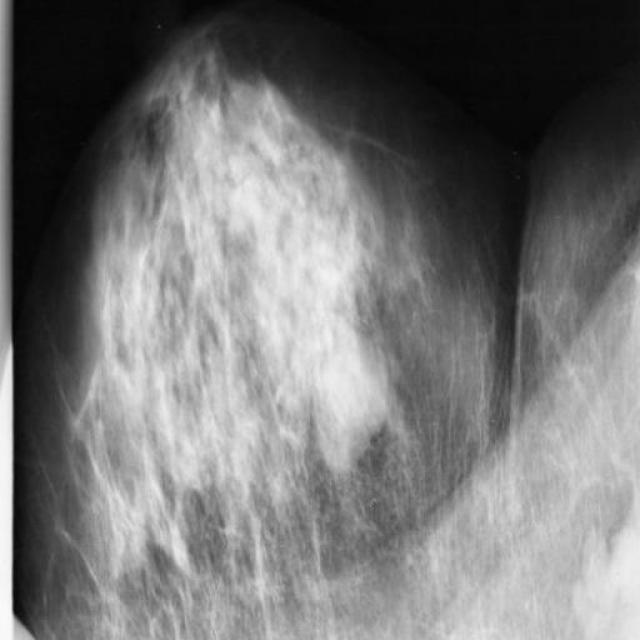cancer: (324, 204, 381, 301)
